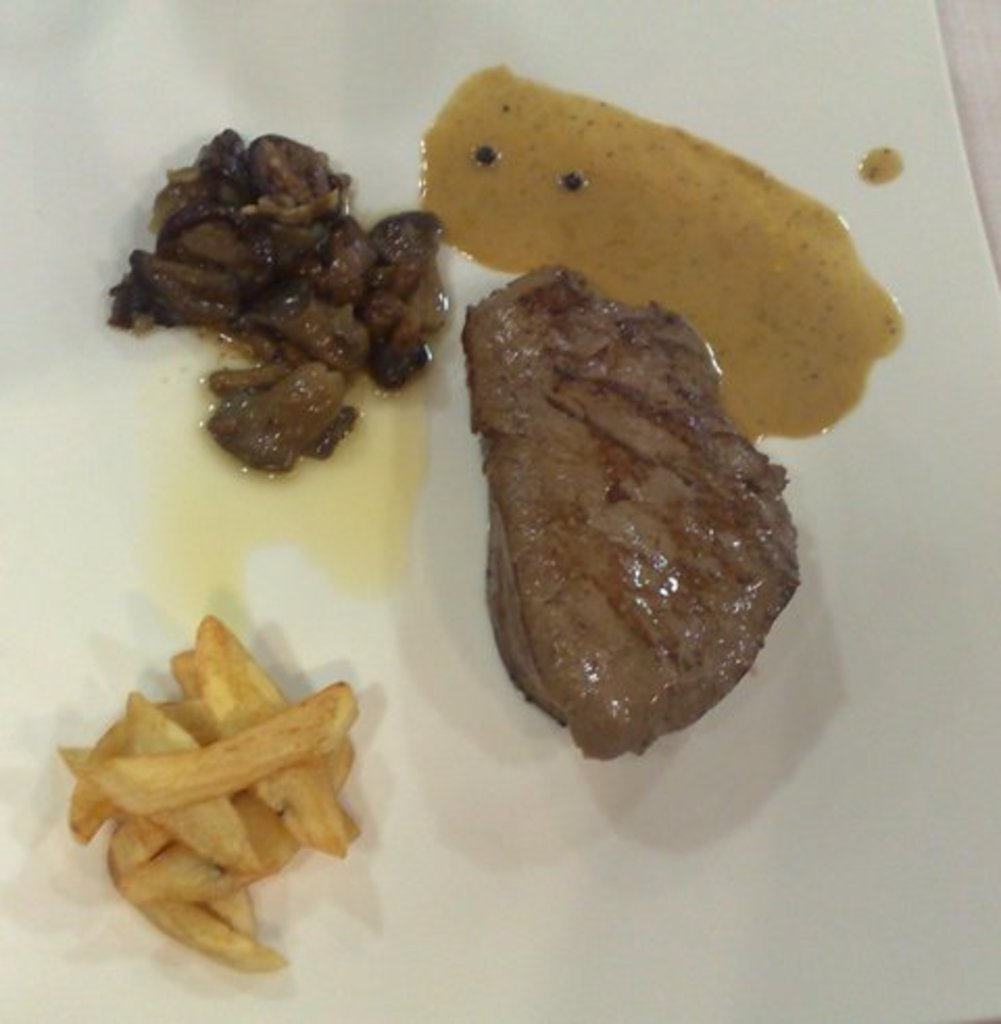French fries: (43, 594, 377, 955)
